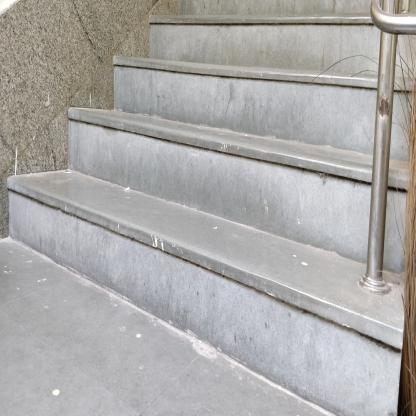stairs: (153, 9, 361, 398)
